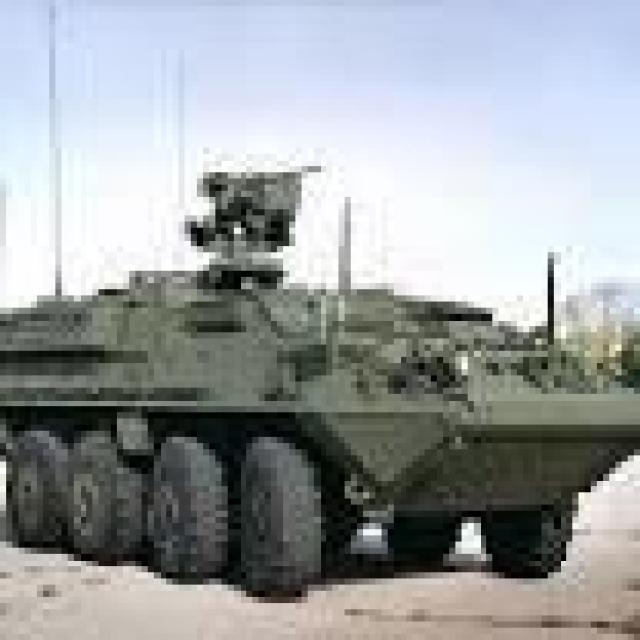Tanks: (3, 129, 637, 609)
